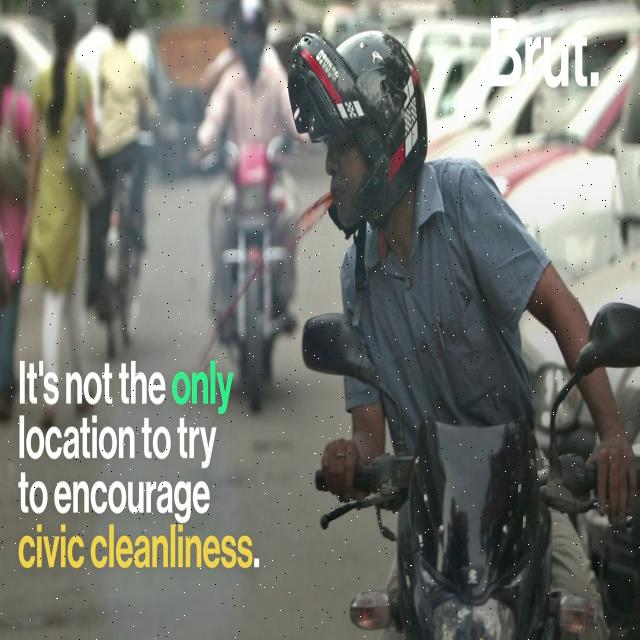spit: (199, 162, 377, 345)
